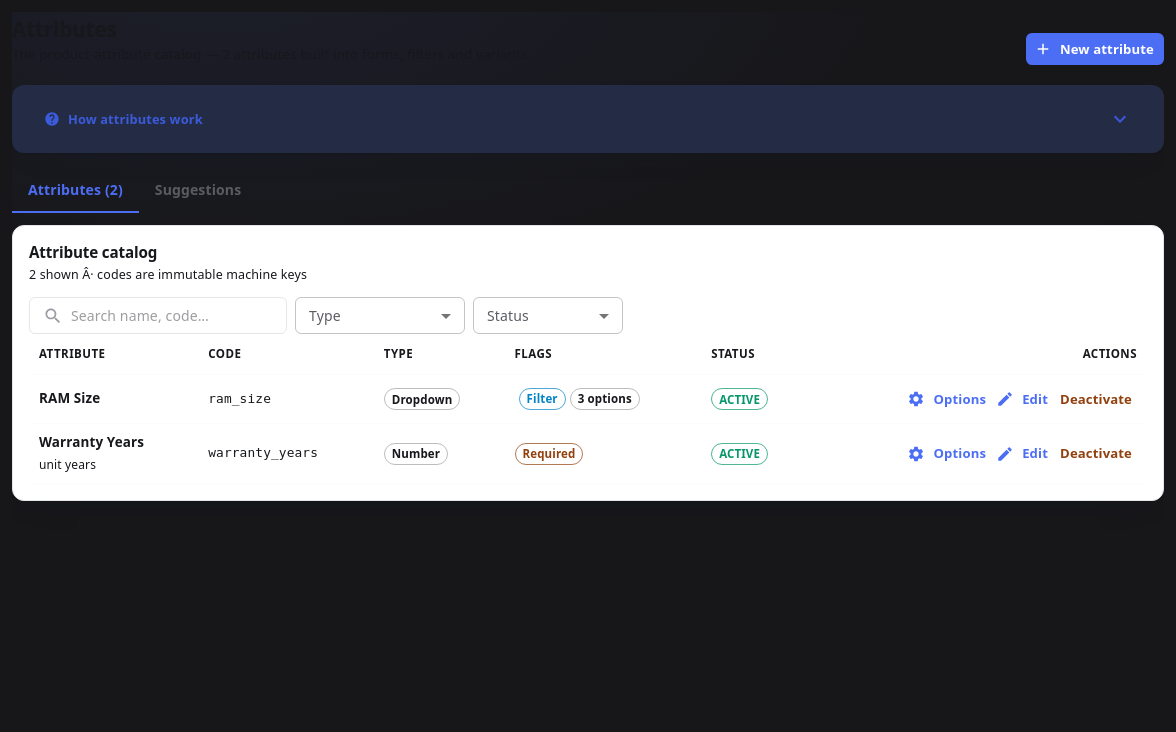
Test: CatalogAttributesView (admin) › switches to the suggestions queue tab
This screenshot has width=1176, height=732.
Click the tab "Suggestions". click: {"x": 198, "y": 190}
box: [139,166,257,214]
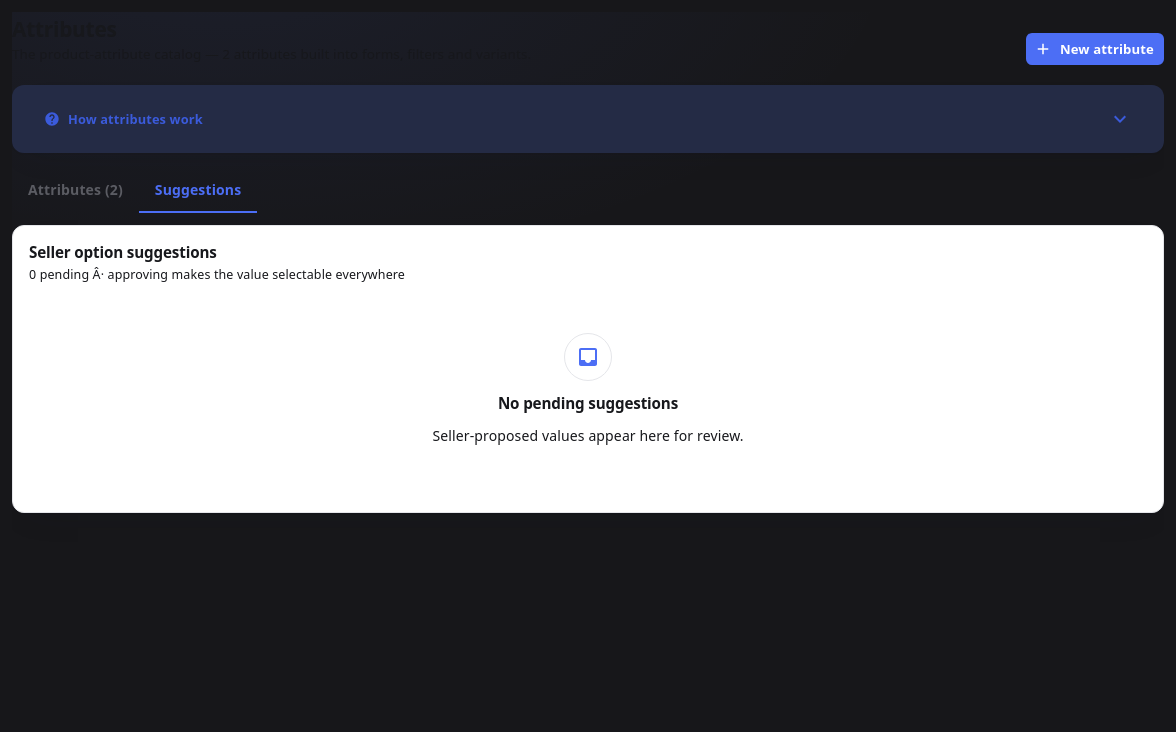
Expected: the heading "Seller option suggestions" is shown, [29,242,217,262]
